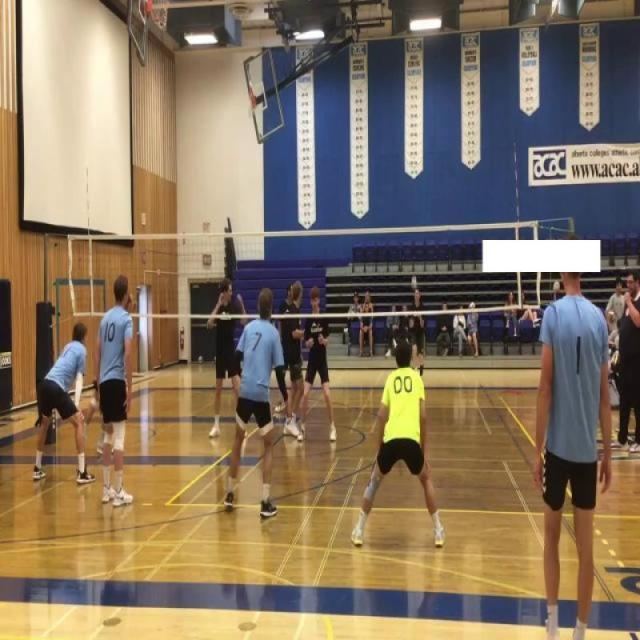volleyball: (410, 274, 418, 290), (198, 355, 203, 365), (214, 356, 216, 364)
